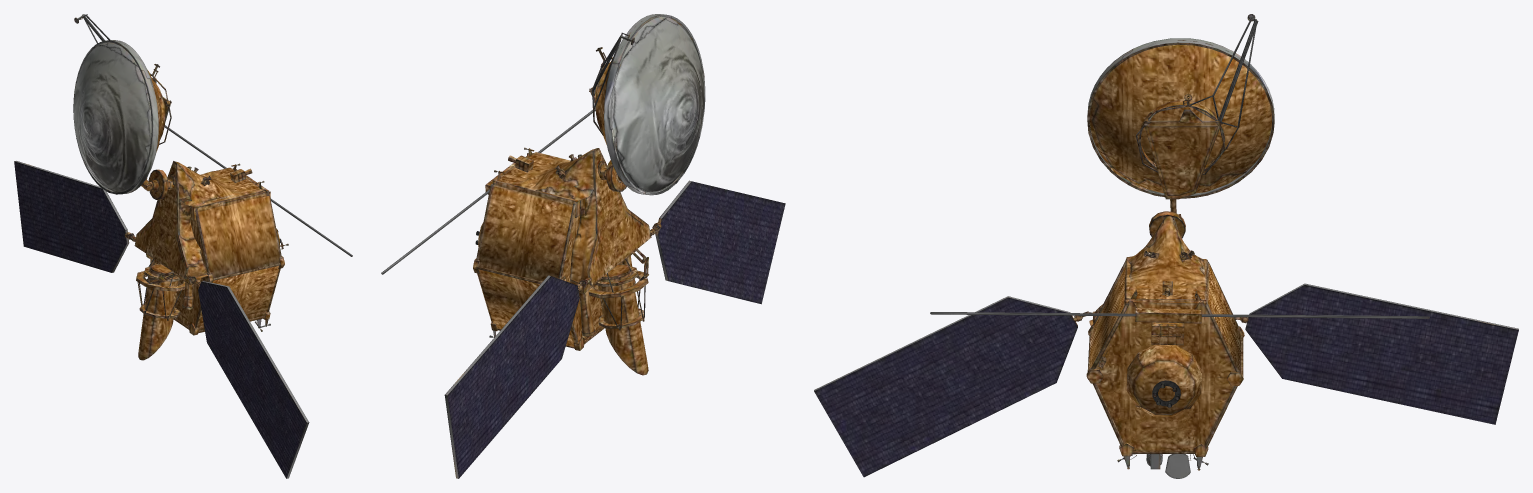
Rendered from mro.glb.
3 views of the same model, side by side, from view 1: azimuth 30°, elevation 25°; view 2: azimuth 150°, elevation 25°; view 3: azimuth 270°, elevation 25° (orthographic). The views are drawn at different scales.
Visible parts, largest first — view 1: bus (×2), solar (×3), hga (×2), sharad; view 2: bus (×2), solar (×3), hga (×3), sharad; view 3: solar (×3), bus (×3), hga (×4), sharad.
Part boxes in pixels (x1=…): bus (×2): x1=124, y1=161, x2=288, y2=360; solar (×3): x1=14, y1=161, x2=309, y2=478; hga (×2): x1=73, y1=40, x2=171, y2=194; sharad: x1=164, y1=125, x2=352, y2=256; bus (×2): x1=473, y1=147, x2=661, y2=375; solar (×3): x1=444, y1=180, x2=785, y2=478; hga (×3): x1=589, y1=14, x2=705, y2=195; sharad: x1=381, y1=108, x2=595, y2=274; solar (×3): x1=814, y1=283, x2=1518, y2=477; bus (×3): x1=1070, y1=211, x2=1248, y2=478; hga (×4): x1=1087, y1=14, x2=1274, y2=213; sharad: x1=930, y1=312, x2=1429, y2=318.
Size of the model in its own units: 32.76 by 61.01 by 89.74.
Materials: 11 (11 with a texture image).
